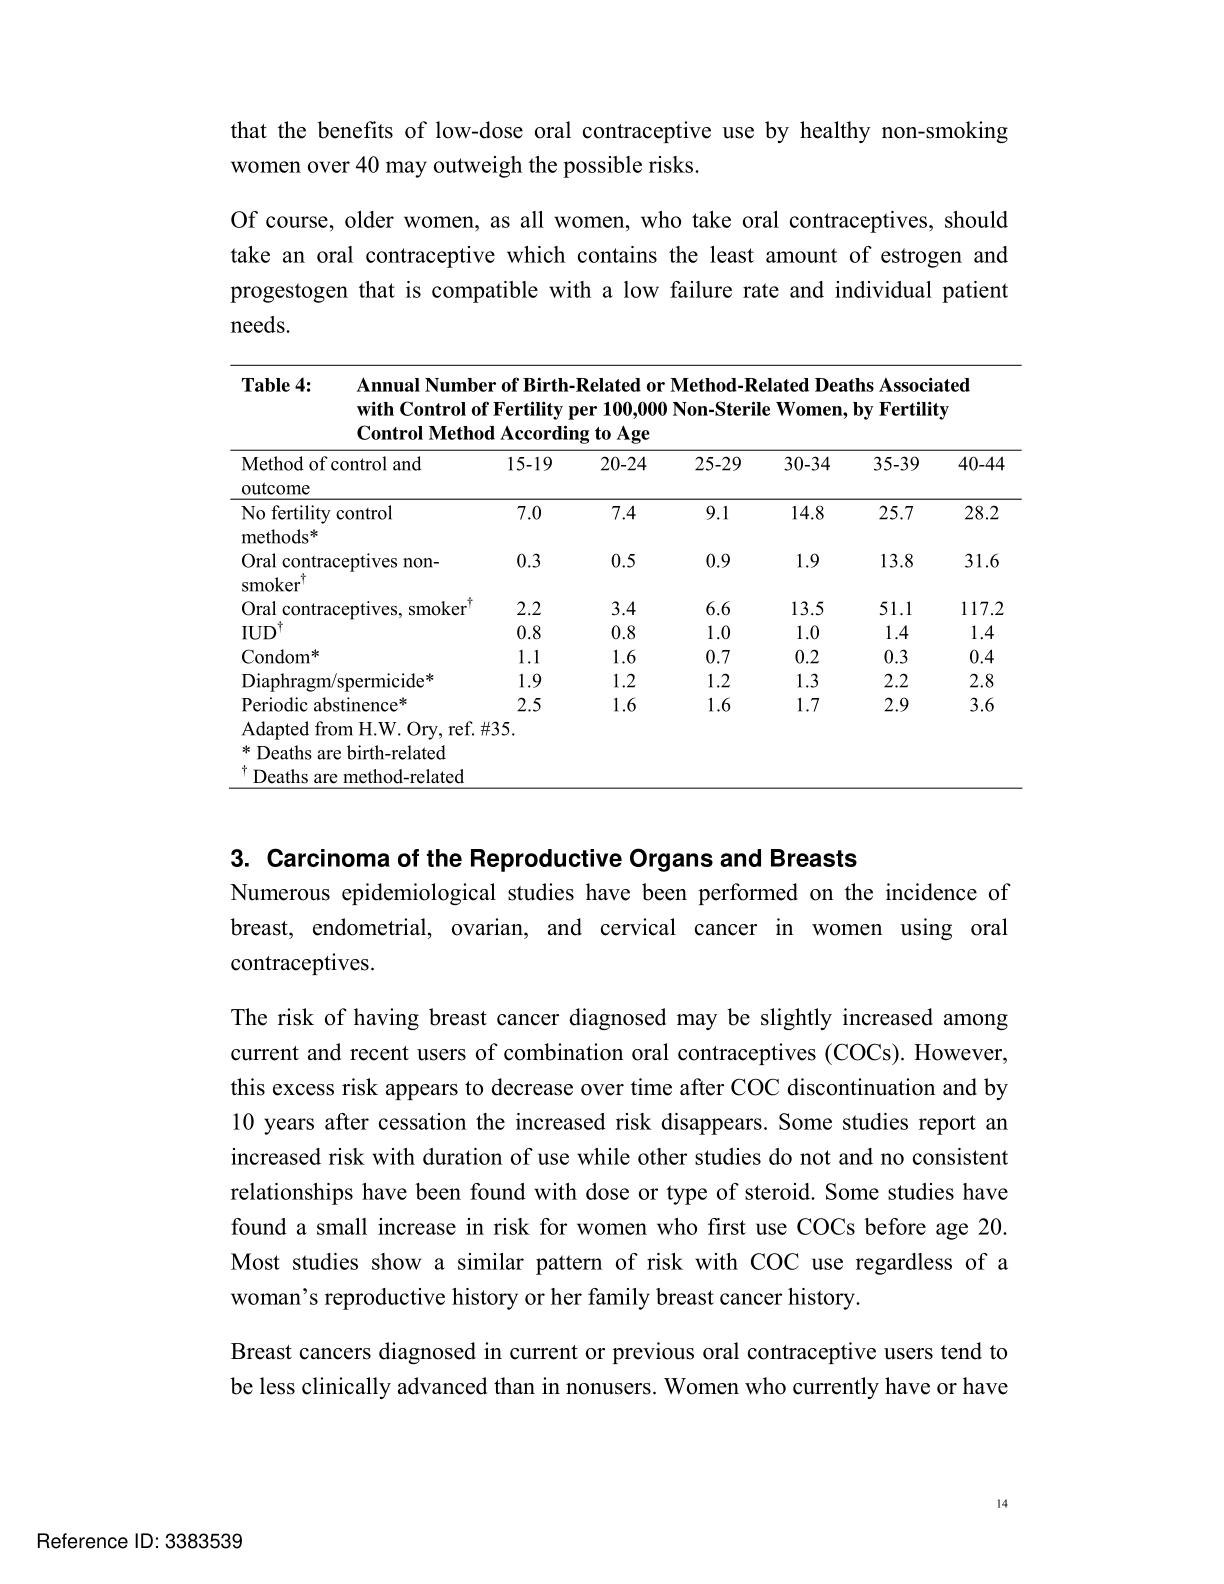partial_lined: (229, 447, 1022, 791)
